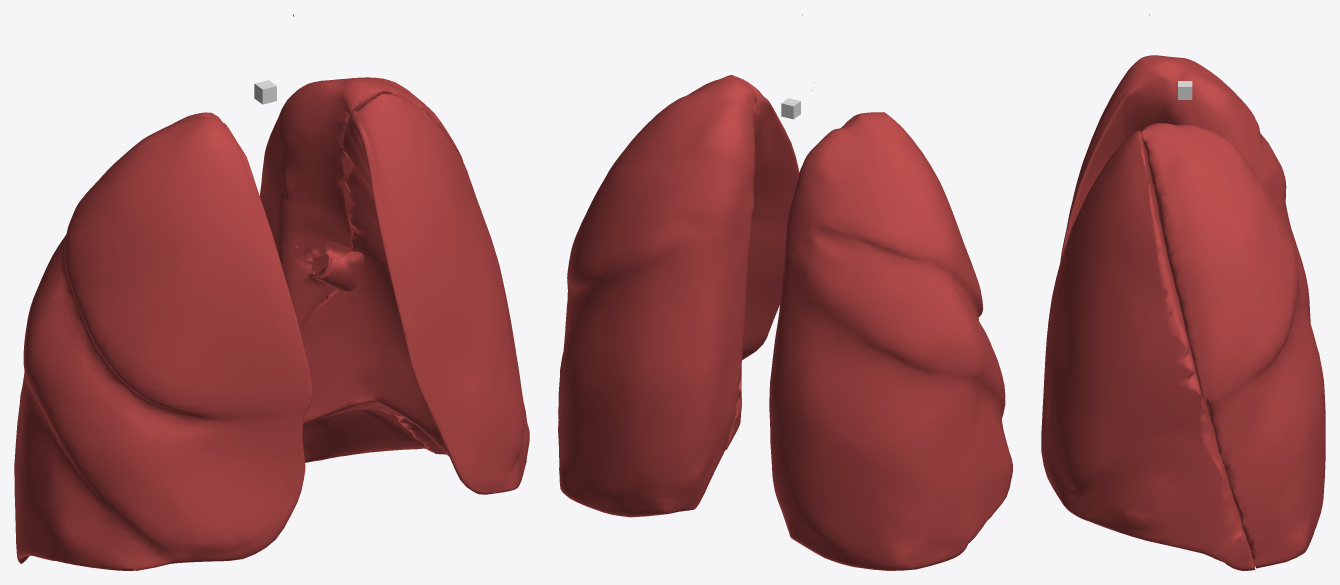
File: pulmones.gltf
3 views of the same model, side by side, from view 1: azimuth 30°, elevation 25°; view 2: azimuth 150°, elevation 25°; view 3: azimuth 270°, elevation 25° (orthographic). The views are drawn at different scales.
Parts seen in each view (by area): view 1: Mesh_111, Mesh_110, Mesh_112; view 2: Mesh_111, Mesh_112, Mesh_110; view 3: Mesh_110, Mesh_112, Mesh_111.
Part boxes in pixels (x1,y1,x2,y2): Mesh_111: (14,112,312,570); Mesh_110: (300,93,529,494); Mesh_112: (260,14,463,462); Mesh_111: (769,112,1012,570); Mesh_112: (558,15,815,517); Mesh_110: (725,76,799,449); Mesh_110: (1041,130,1255,570); Mesh_112: (1140,14,1325,568); Mesh_111: (1060,55,1310,322).
Size of the model in its own units: 66.07 by 71.66 by 39.52.
